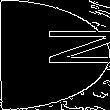N_W: (5, 35, 105, 75)
